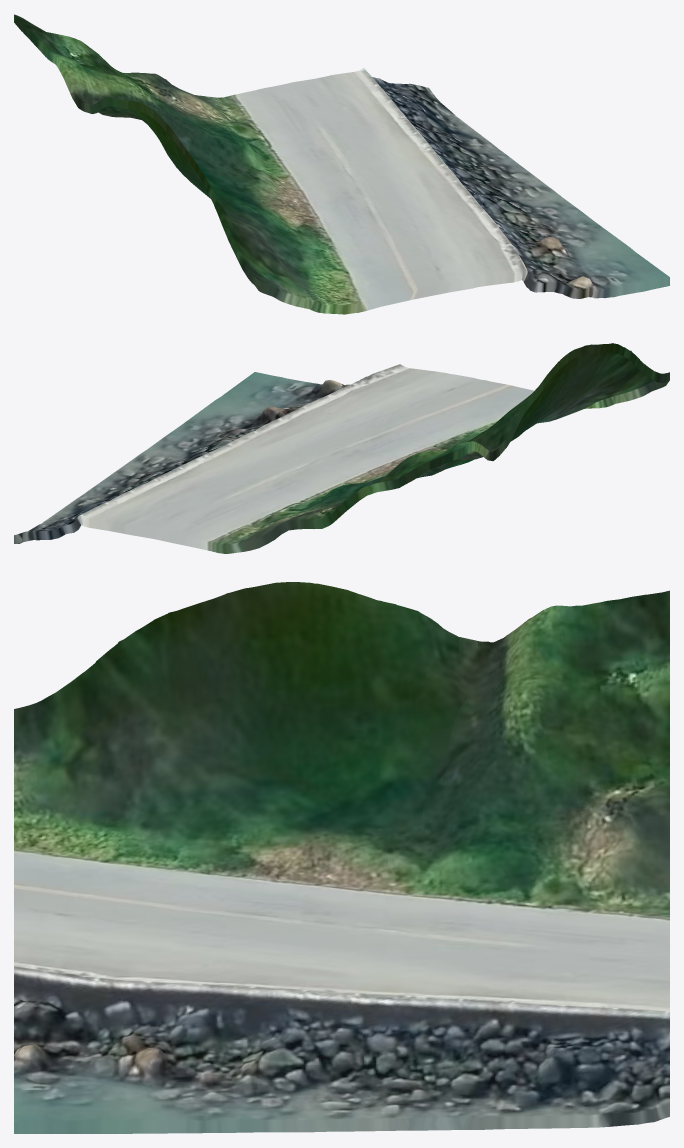
File: z20-167561-405171-h0-yup-uvflip-v3-world.glb
3 views of the same model, one above another, from view 1: azimuth 30°, elevation 25°; view 2: azimuth 150°, elevation 25°; view 3: azimuth 270°, elevation 25° (orthographic). The views are drawn at different scales.
Bounding box in the file's own units: 30.16 × 14.08 × 30.32.
Materials: 1 (1 with a texture image).
